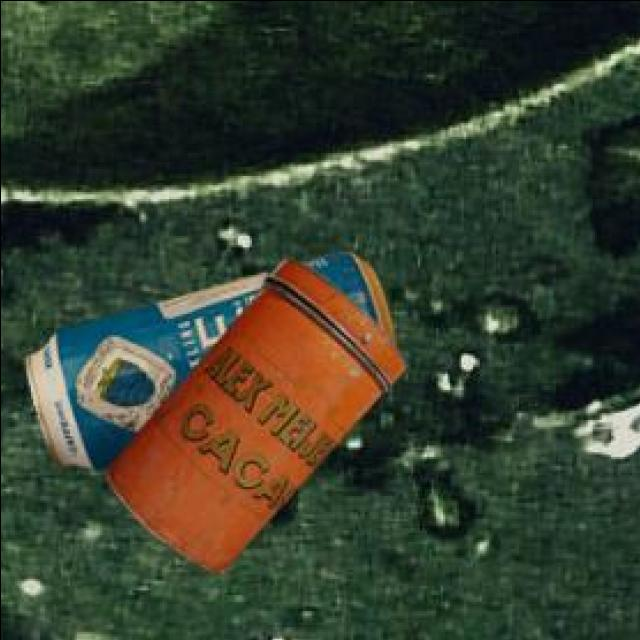logam: (107, 261, 409, 577), (29, 254, 393, 473)
